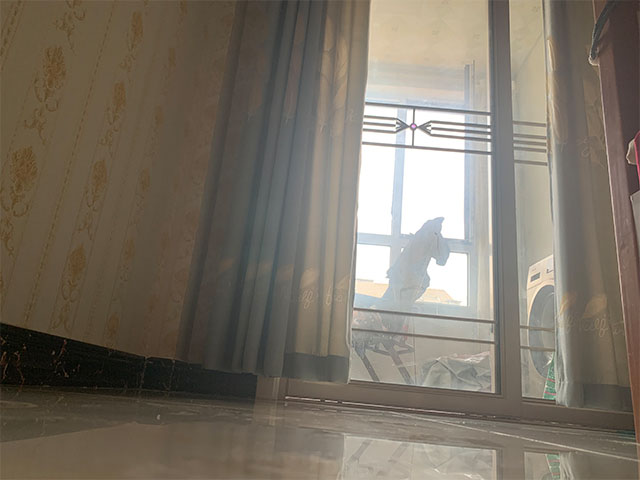curtain: (173, 1, 371, 386), (542, 1, 635, 413)
